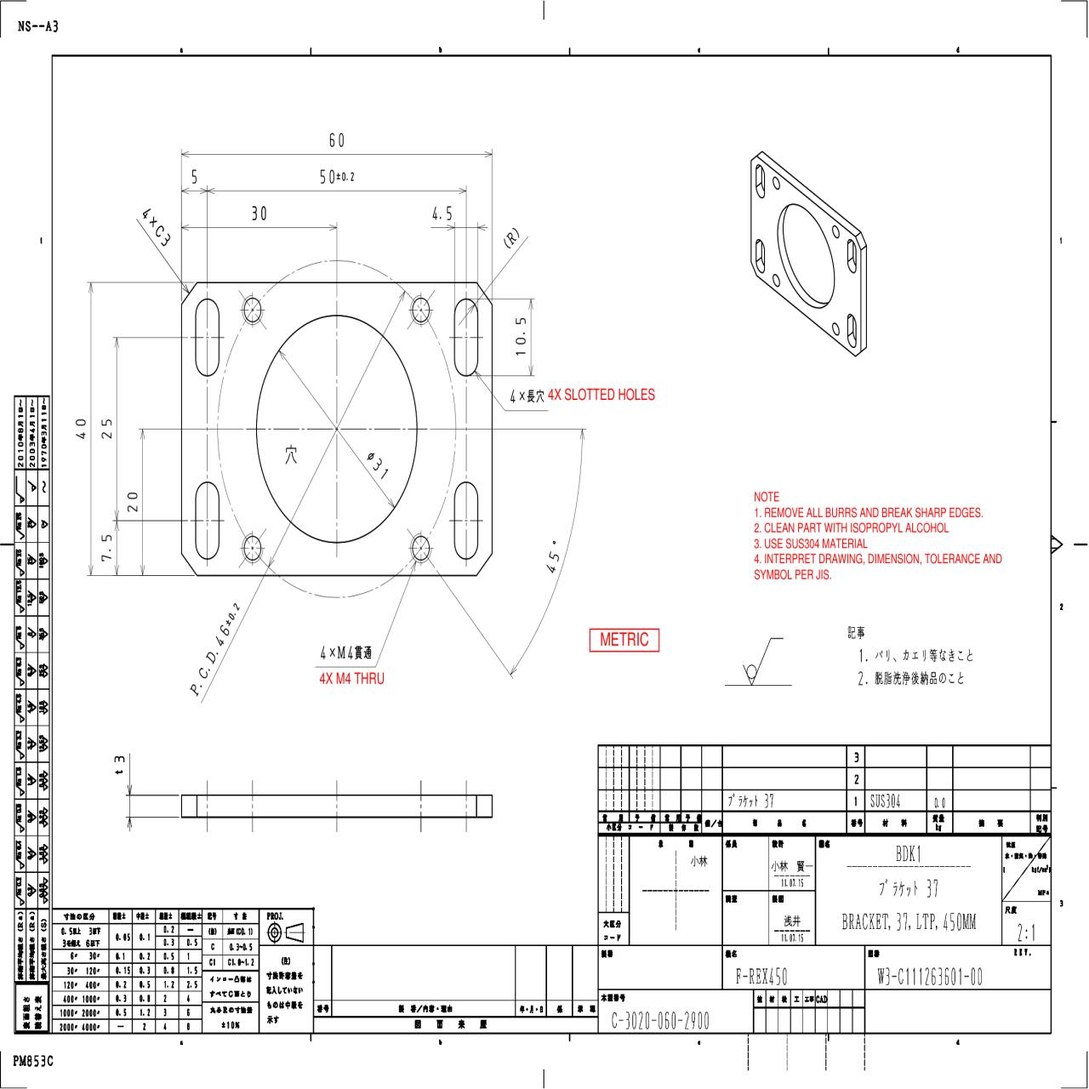basic_dimension: (321, 170, 354, 184), (515, 317, 526, 356), (101, 534, 112, 563), (432, 206, 452, 221), (127, 492, 138, 513), (101, 419, 112, 440), (75, 419, 86, 440), (252, 205, 266, 221), (330, 132, 344, 148), (192, 169, 198, 184)
dimension_chamfer_symbol: (155, 224, 172, 248)
dimension_degree_symbol: (545, 540, 564, 574)
dimension_diameter_symbol: (365, 450, 389, 481)
dimension_metric_symbol: (337, 644, 353, 660)
dimension_radius_symbol: (505, 228, 519, 249)
dimension_thickness_symbol: (114, 755, 125, 777)
